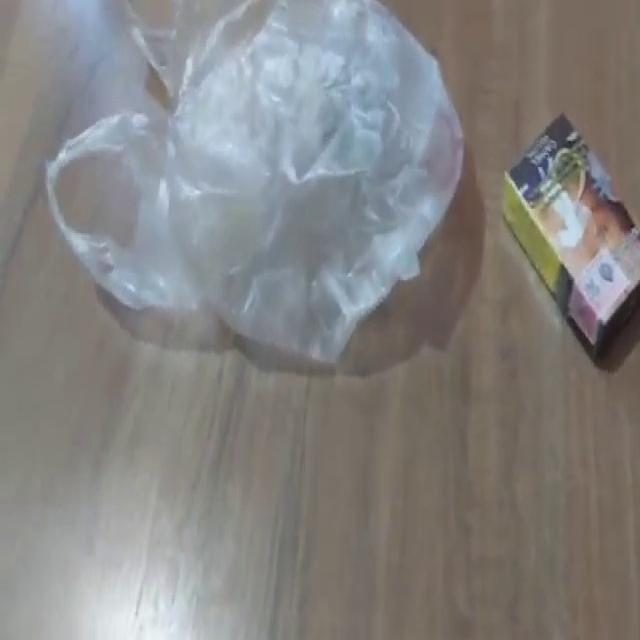Anorganik: (41, 2, 470, 374)
Organik: (498, 108, 640, 369)
